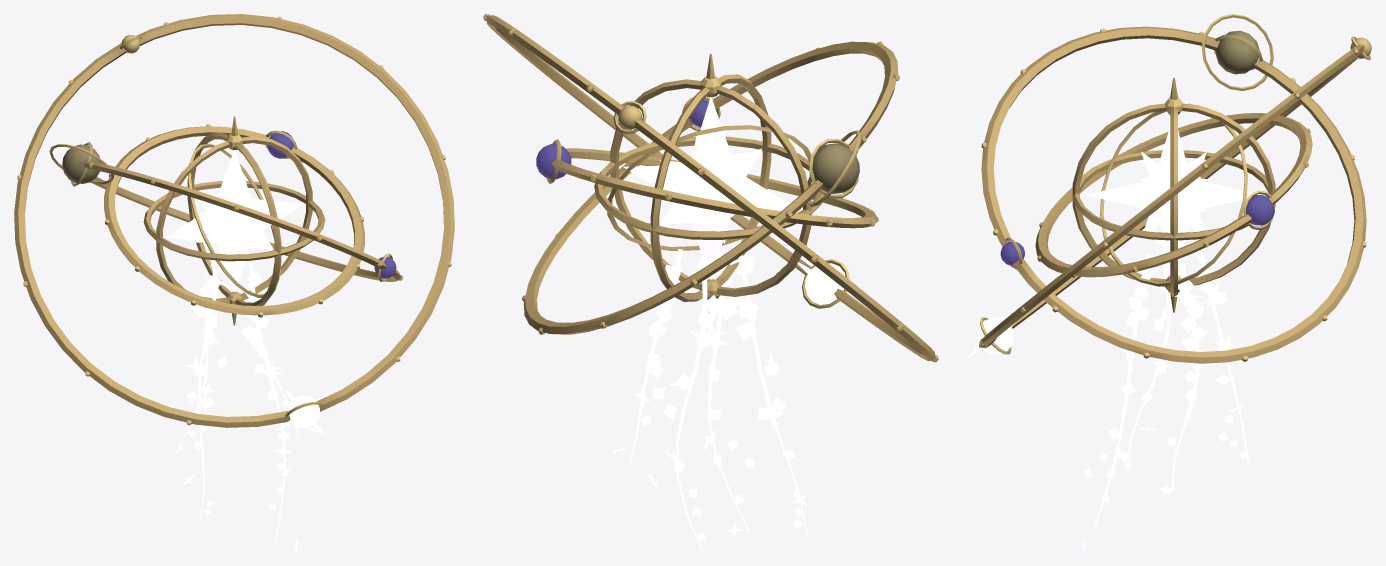
File: star_mote.glb
3 renders of one model, left to right at view 1: azimuth 30°, elevation 25°; view 2: azimuth 150°, elevation 25°; view 3: azimuth 270°, elevation 25°, orthographic. The views are drawn at different scales.
Visible parts, largest first — view 1: ring_3, core, ring_1, ring_2, ribbons; view 2: core, ring_2, ring_3, ribbons, ring_1; view 3: ring_2, core, ring_3, ribbons, ring_1.
Part boxes in pixels (x1,y1,x2,y2): ring_3: (14,14,454,434); core: (143,116,325,325); ring_1: (104,124,364,317); ring_2: (49,142,403,281); ribbons: (175,260,319,551); core: (594,53,824,312); ring_2: (522,41,899,334); ring_3: (483,14,938,362); ribbons: (613,249,808,551); ring_1: (536,139,878,228); ring_2: (981,14,1366,363); core: (1072,77,1275,312); ring_3: (967,36,1371,357); ribbons: (1079,240,1248,551); ring_1: (1035,113,1312,277).
Size of the model in its own units: 1.05 by 1.24 by 0.9062.
